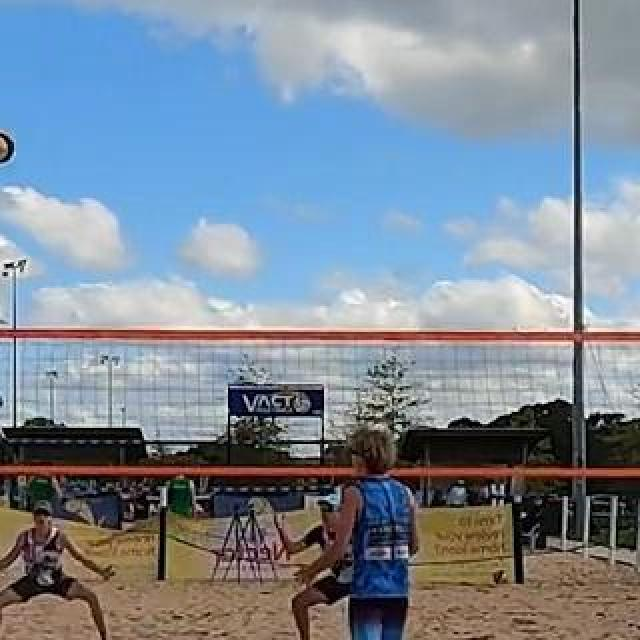volleyball: (0, 132, 16, 164), (493, 569, 509, 585)
